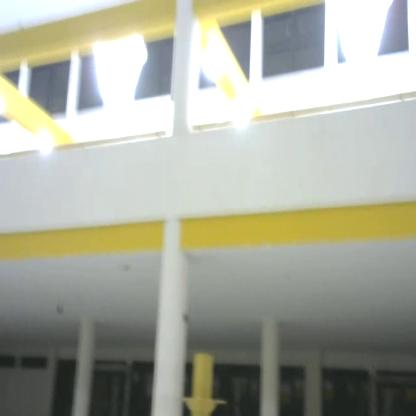pole: (175, 345, 233, 416)
